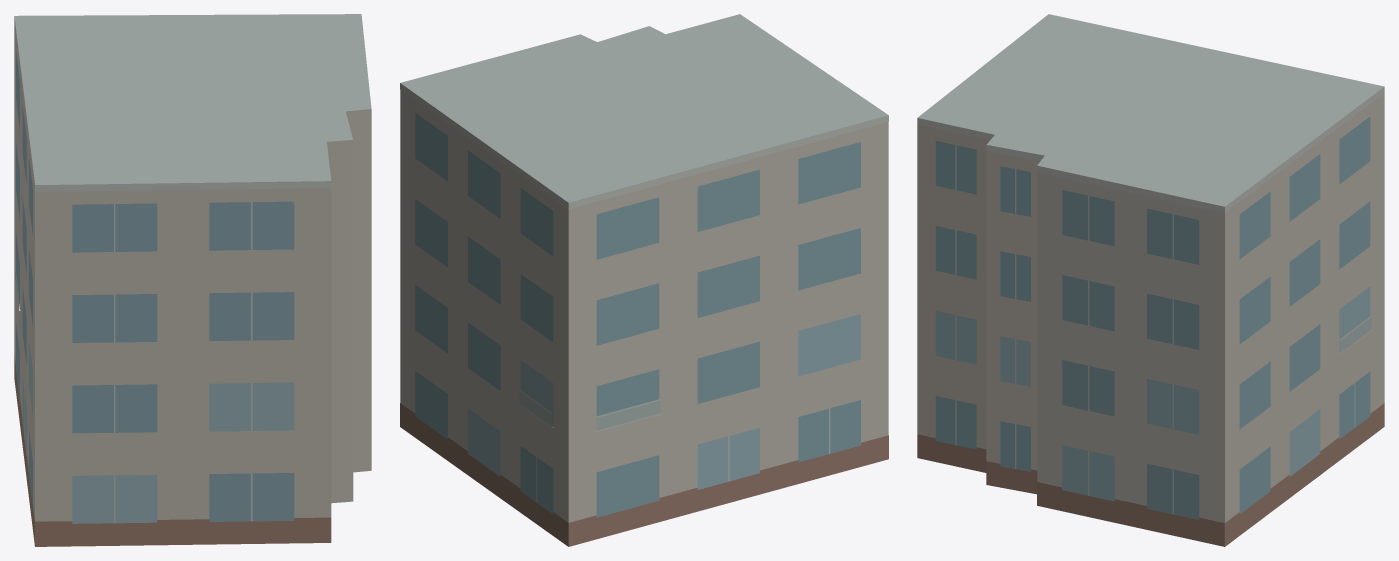
The model's file is survey-upis-32658295.glb.
3 renders of one model, left to right at view 1: azimuth 30°, elevation 25°; view 2: azimuth 150°, elevation 25°; view 3: azimuth 270°, elevation 25°, orthographic. The views are drawn at different scales.
Visible parts, largest first — view 1: survey-upis-32658295.tmp; view 2: survey-upis-32658295.tmp; view 3: survey-upis-32658295.tmp.
Boxes of the visible parts, x1,y1,x2,y2 form: survey-upis-32658295.tmp: (14,14,371,546); survey-upis-32658295.tmp: (400,14,888,546); survey-upis-32658295.tmp: (917,14,1384,546).
Bounding box in the file's own units: 15.45 × 12.7 × 15.82.
